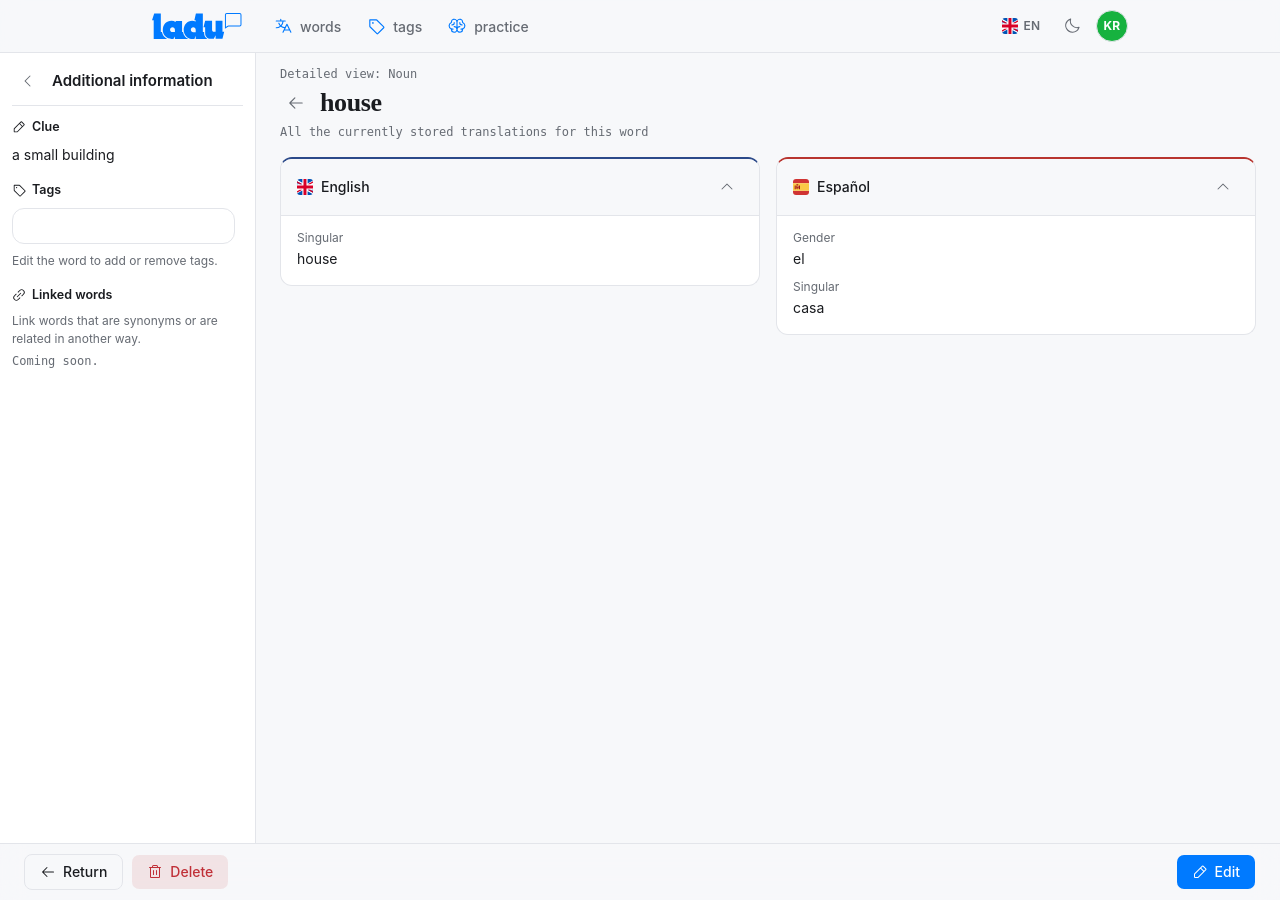
Scenario: WordPage — delete › Delete opens a confirm dialog; Cancel there makes no request
This screenshot has width=1280, height=900.
Click the button "Delete".
click(180, 872)  # box [131, 854, 229, 890]
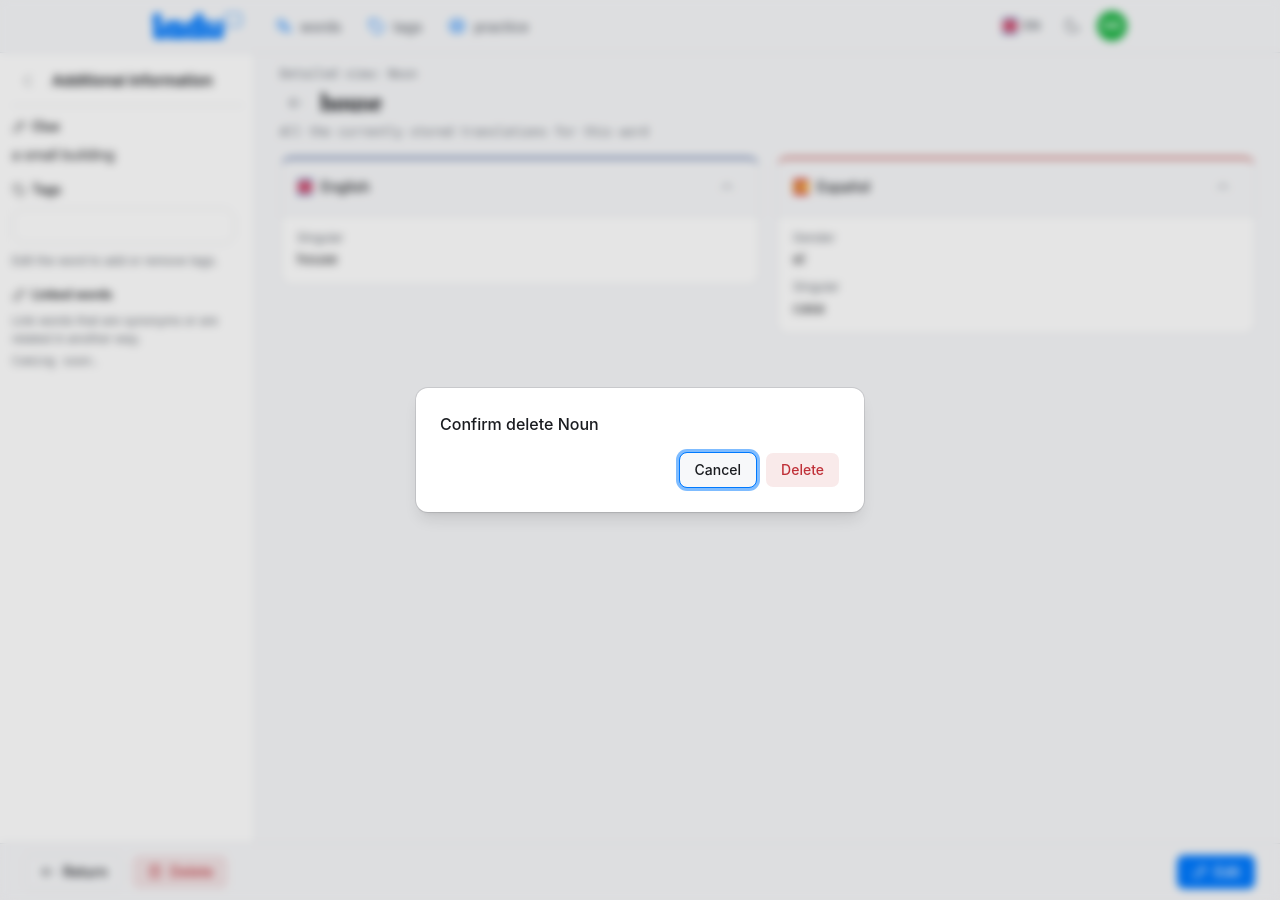
expect the heading "Confirm delete Noun" is shown: met, box [440, 414, 599, 434]
Click the button "Cancel".
click(718, 470)  # box [679, 452, 757, 488]
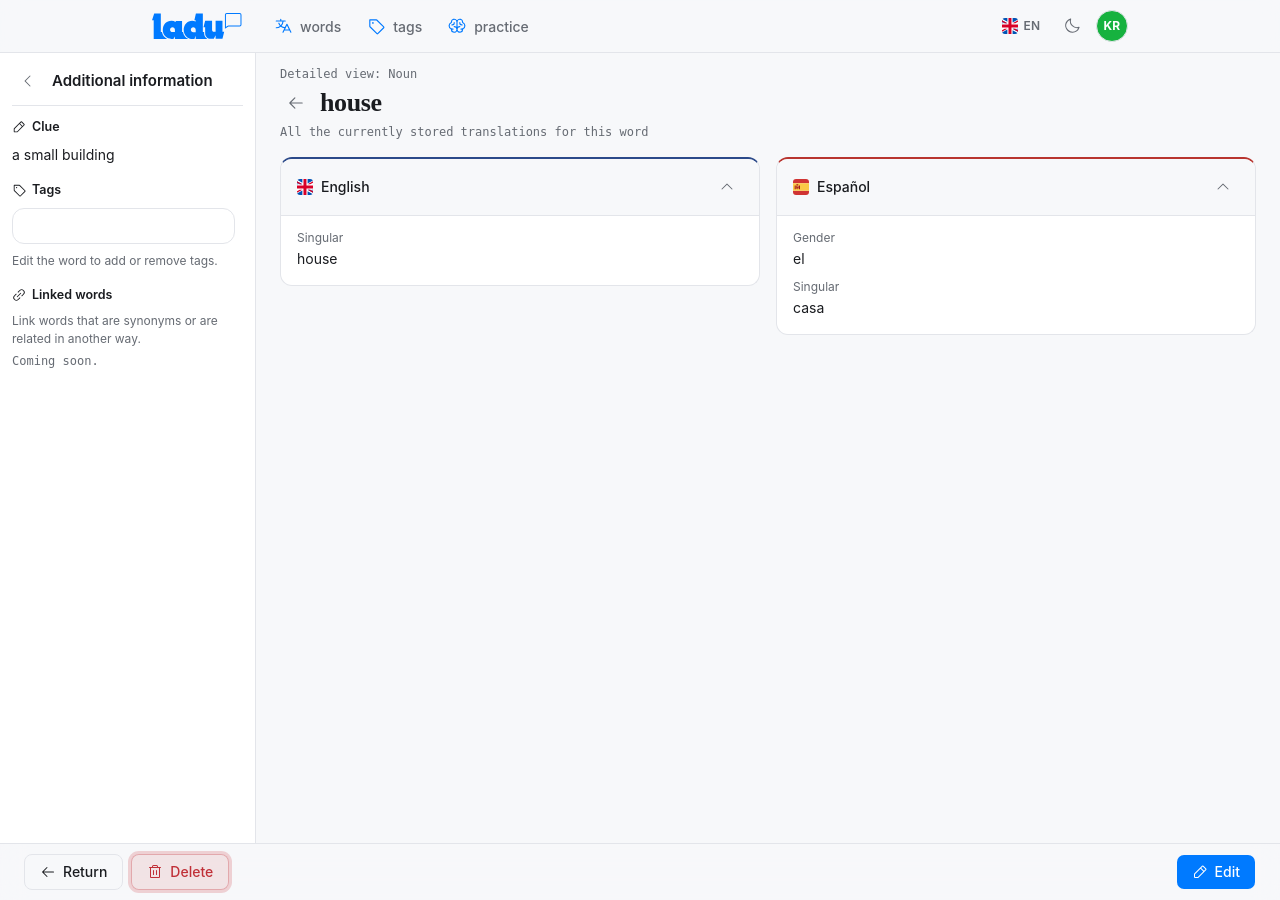
expect the dialog is gone: met
